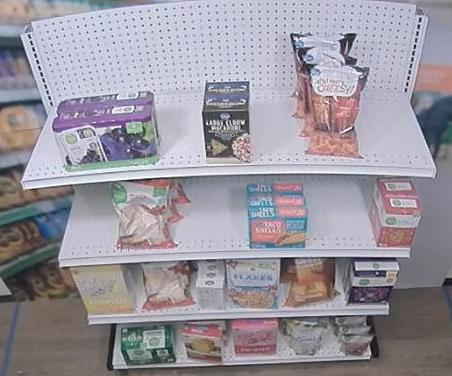stockout: (359, 70, 430, 160), (246, 77, 308, 161), (179, 177, 247, 247), (308, 178, 375, 247), (154, 84, 205, 163), (58, 188, 116, 254), (24, 101, 65, 179)
